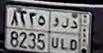2: (18, 10, 27, 49)
3: (27, 11, 36, 51)
5: (37, 14, 46, 51)
8: (9, 9, 18, 48)
D: (68, 18, 78, 52)
L: (60, 17, 69, 52)
U: (50, 16, 60, 50)
